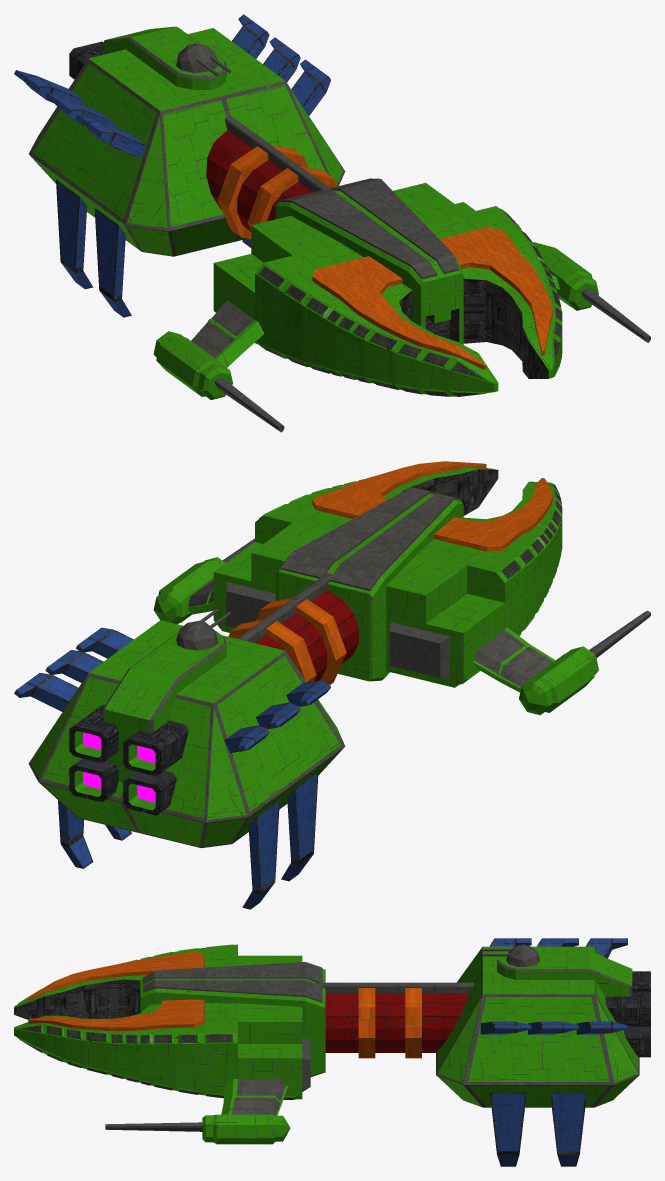
File: dilgar-omelos.glb
3 views of the same model, one above another, from view 1: azimuth 30°, elevation 25°; view 2: azimuth 150°, elevation 25°; view 3: azimuth 270°, elevation 25° (orthographic). The views are drawn at different scales.
Visible parts, largest first — view 1: Dilgar_omelos; view 2: Dilgar_omelos; view 3: Dilgar_omelos.
Boxes of the visible parts, x1,y1,x2,y2 form: Dilgar_omelos: (14, 14, 650, 432); Dilgar_omelos: (14, 461, 650, 909); Dilgar_omelos: (14, 938, 650, 1166).
Bounding box in the file's own units: 193 × 110 × 339.
10 materials, 9 textured.
